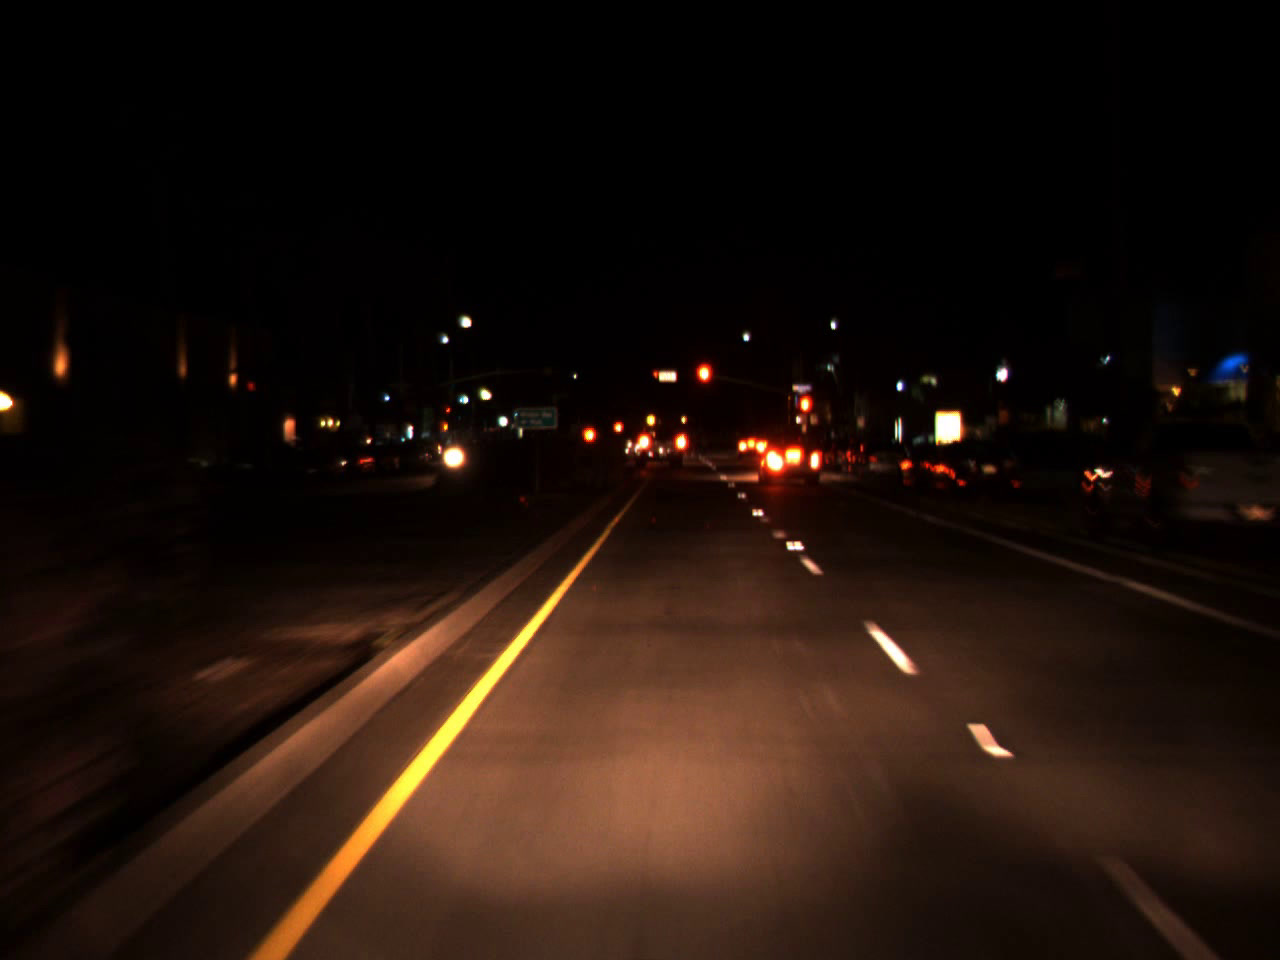stop: (693, 359, 714, 407), (797, 392, 815, 435), (652, 370, 661, 386), (444, 405, 451, 418)
